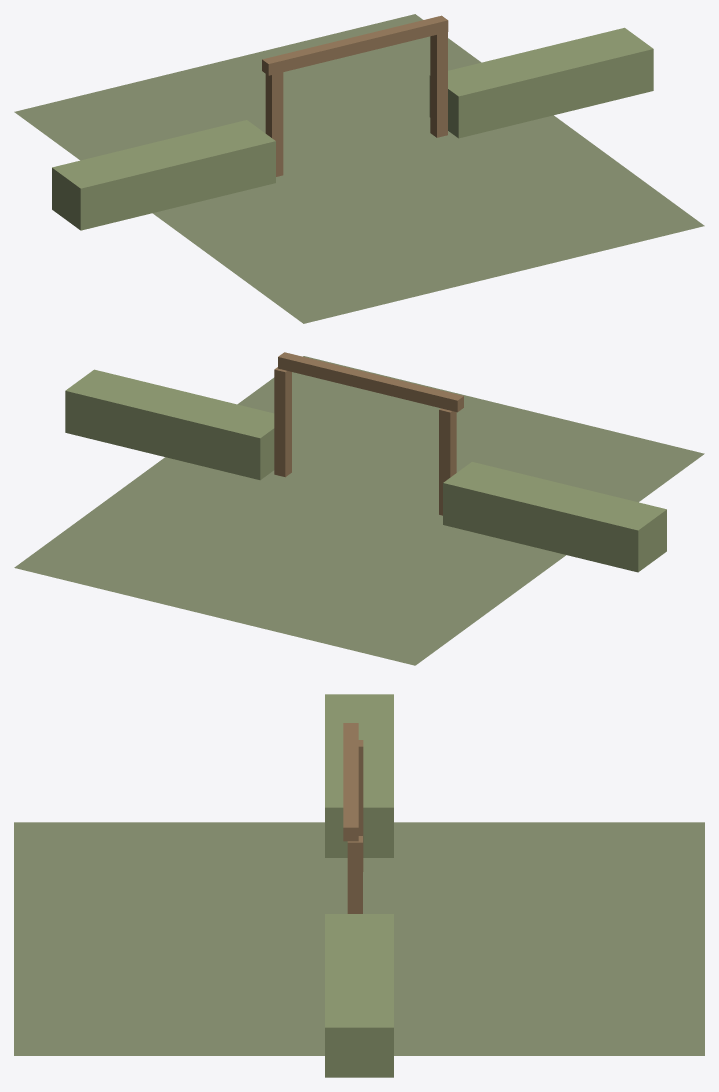
The model's file is BB_gate.glb.
3 renders of one model, top to bottom at view 1: azimuth 30°, elevation 25°; view 2: azimuth 150°, elevation 25°; view 3: azimuth 270°, elevation 25°, orthographic. The views are drawn at different scales.
Parts seen in each view (by area): view 1: ground, rampart.001, rampart, lintel, gatepost, gatepost.001; view 2: ground, rampart.001, rampart, lintel, gatepost, gatepost.001; view 3: ground, rampart, rampart.001, lintel, gatepost, gatepost.001.
Boxes of the visible parts, box(x1,y1,x2,y2) form: ground: box(14, 14, 704, 323); rampart.001: box(52, 120, 275, 230); rampart: box(429, 27, 653, 138); lintel: box(262, 15, 448, 75); gatepost: box(430, 32, 447, 137); gatepost.001: box(265, 72, 283, 176); ground: box(14, 356, 704, 665); rampart.001: box(443, 462, 666, 572); rampart: box(65, 369, 274, 480); lintel: box(278, 352, 463, 412); gatepost: box(274, 367, 291, 477); gatepost.001: box(439, 408, 456, 515); ground: box(14, 822, 704, 1055); rampart: box(325, 914, 393, 1077); rampart.001: box(325, 694, 393, 857); lintel: box(343, 723, 358, 841); gatepost: box(347, 836, 362, 913); gatepost.001: box(358, 740, 363, 871).
Bounding box in the file's own units: 10.28 × 2.29 × 9.
